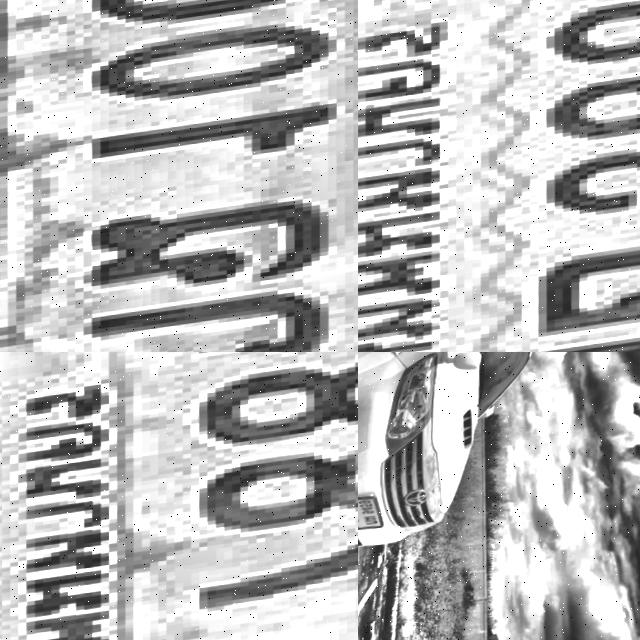license-plate: (0, 0, 358, 352), (0, 352, 358, 640), (358, 0, 640, 352), (358, 494, 394, 537)
